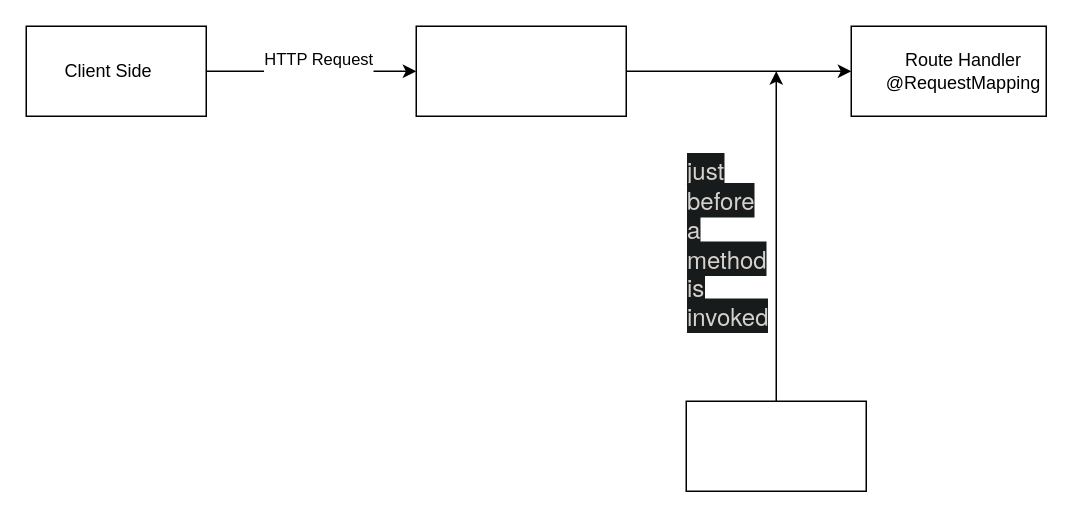
Some shapes in this 1088 by 518 pixel diagram are drawn without their labels. The centre of each missing label's shape, as x and y in pixels:
Middleware: [520,70]
Pipe: [775,445]
